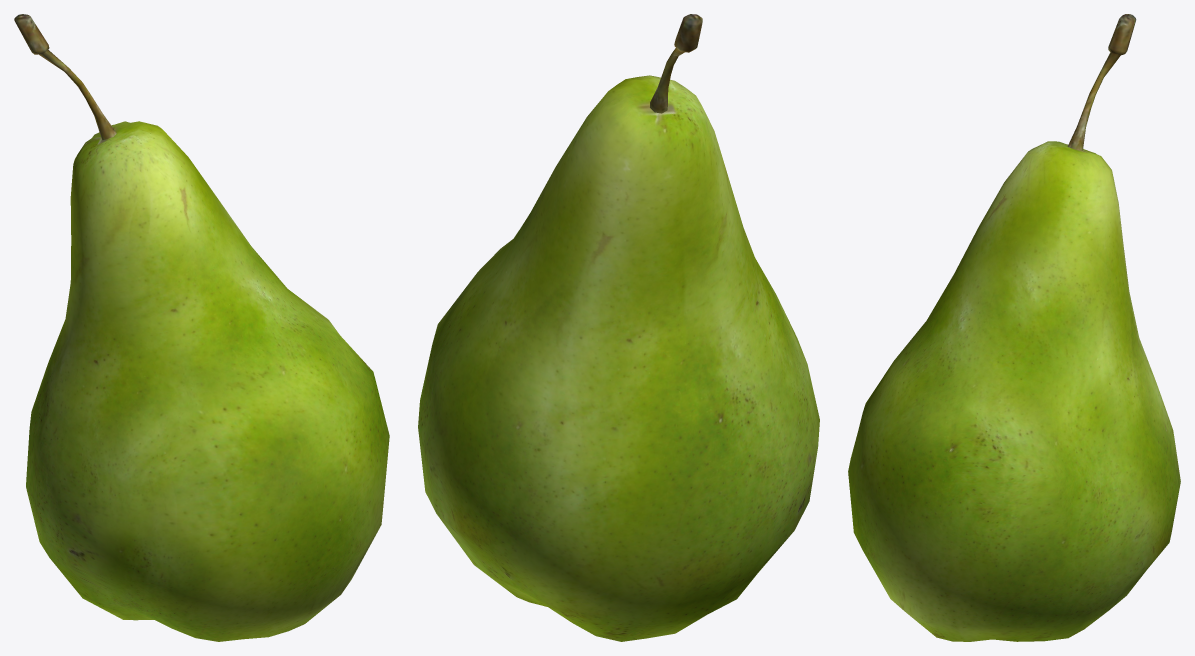
The model's file is uploads_files_728975_Poire_lowpoly.FBX.
3 renders of one model, left to right at view 1: azimuth 30°, elevation 25°; view 2: azimuth 150°, elevation 25°; view 3: azimuth 270°, elevation 25°, orthographic. The views are drawn at different scales.
Parts seen in each view (by area): view 1: pear, pear+; view 2: pear, pear+; view 3: pear, pear+.
Part boxes in pixels (x1,y1,x2,y2): pear: [26, 121, 389, 641]; pear+: [14, 14, 116, 139]; pear: [418, 75, 819, 641]; pear+: [650, 14, 702, 113]; pear: [848, 141, 1180, 641]; pear+: [1067, 14, 1136, 150].
Bounding box in the file's own units: 6.56 × 11.9 × 6.54.
1 material, 1 textured.
